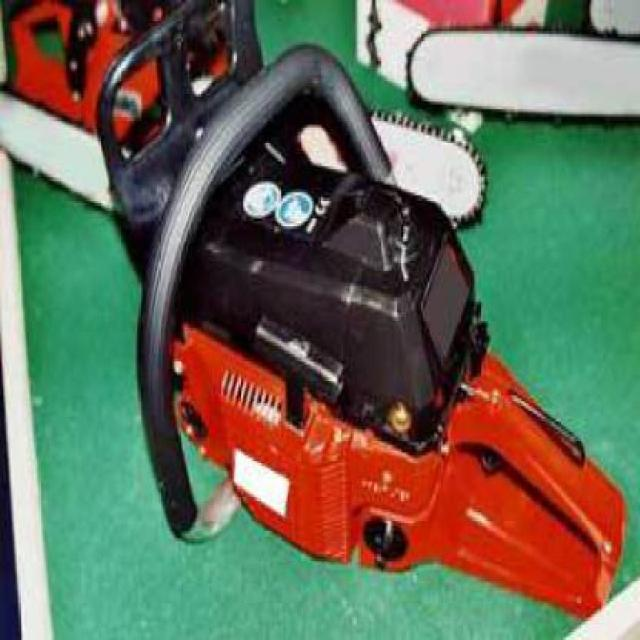Chainsaw: (0, 0, 624, 615), (3, 0, 491, 228), (404, 26, 640, 127)
